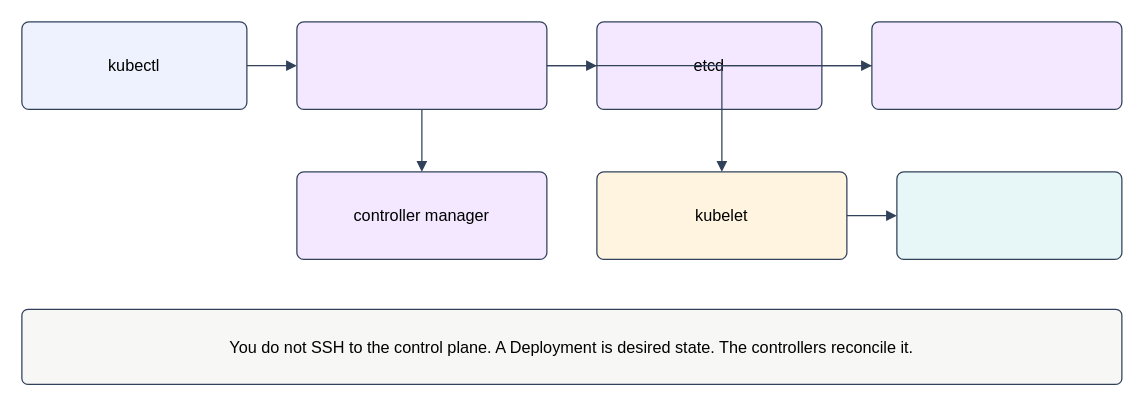
Some shapes in this 1144 by 406 pixel diagram are drawn without their labels. Here are the shapes that lost their labels. From the top down, the centre of each, then its label:
At (x=421, y=65): "kube-apiserver".
At (x=996, y=65): "scheduler".
At (x=1009, y=215): "Pod".
